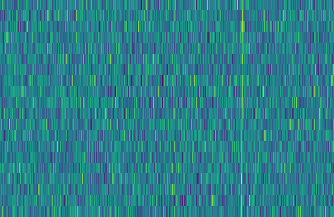signal: (237, 0, 248, 217)
